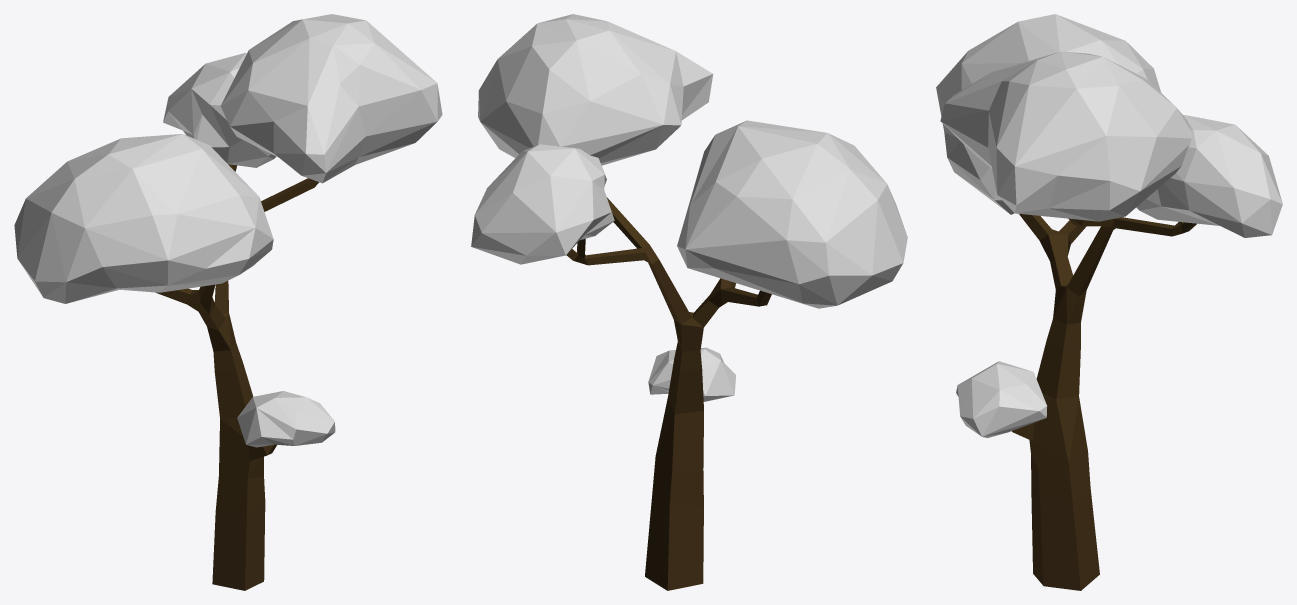
Rendered from Tree1.fbx.
3 views of the same model, side by side, from view 1: azimuth 30°, elevation 25°; view 2: azimuth 150°, elevation 25°; view 3: azimuth 270°, elevation 25° (orthographic). The views are drawn at different scales.
Parts seen in each view (by area): view 1: Tree_Leaf.001, Tree_Leaf, Tree_Base, Tree_Leaf.002, Tree_Leaf.003; view 2: Tree_Leaf.001, Tree_Leaf, Tree_Base, Tree_Leaf.002, Tree_Leaf.003; view 3: Tree_Leaf, Tree_Base, Tree_Leaf.002, Tree_Leaf.001, Tree_Leaf.003.
Part boxes in pixels (left/top/right/bottom): Tree_Leaf.001: left=14, top=134, right=273, bottom=303; Tree_Leaf: left=220, top=14, right=442, bottom=183; Tree_Base: left=155, top=164, right=318, bottom=590; Tree_Leaf.002: left=163, top=52, right=275, bottom=167; Tree_Leaf.003: left=237, top=391, right=335, bottom=447; Tree_Leaf.001: left=677, top=120, right=907, bottom=308; Tree_Leaf: left=478, top=14, right=713, bottom=165; Tree_Base: left=566, top=197, right=771, bottom=590; Tree_Leaf.002: left=471, top=144, right=614, bottom=264; Tree_Leaf.003: left=648, top=347, right=735, bottom=401; Tree_Leaf: left=940, top=51, right=1192, bottom=221; Tree_Base: left=1012, top=214, right=1196, bottom=590; Tree_Leaf.002: left=1136, top=114, right=1282, bottom=237; Tree_Leaf.001: left=936, top=14, right=1161, bottom=214; Tree_Leaf.003: left=956, top=361, right=1047, bottom=437.
Size of the model in its own units: 93.12 by 119 by 65.89.
